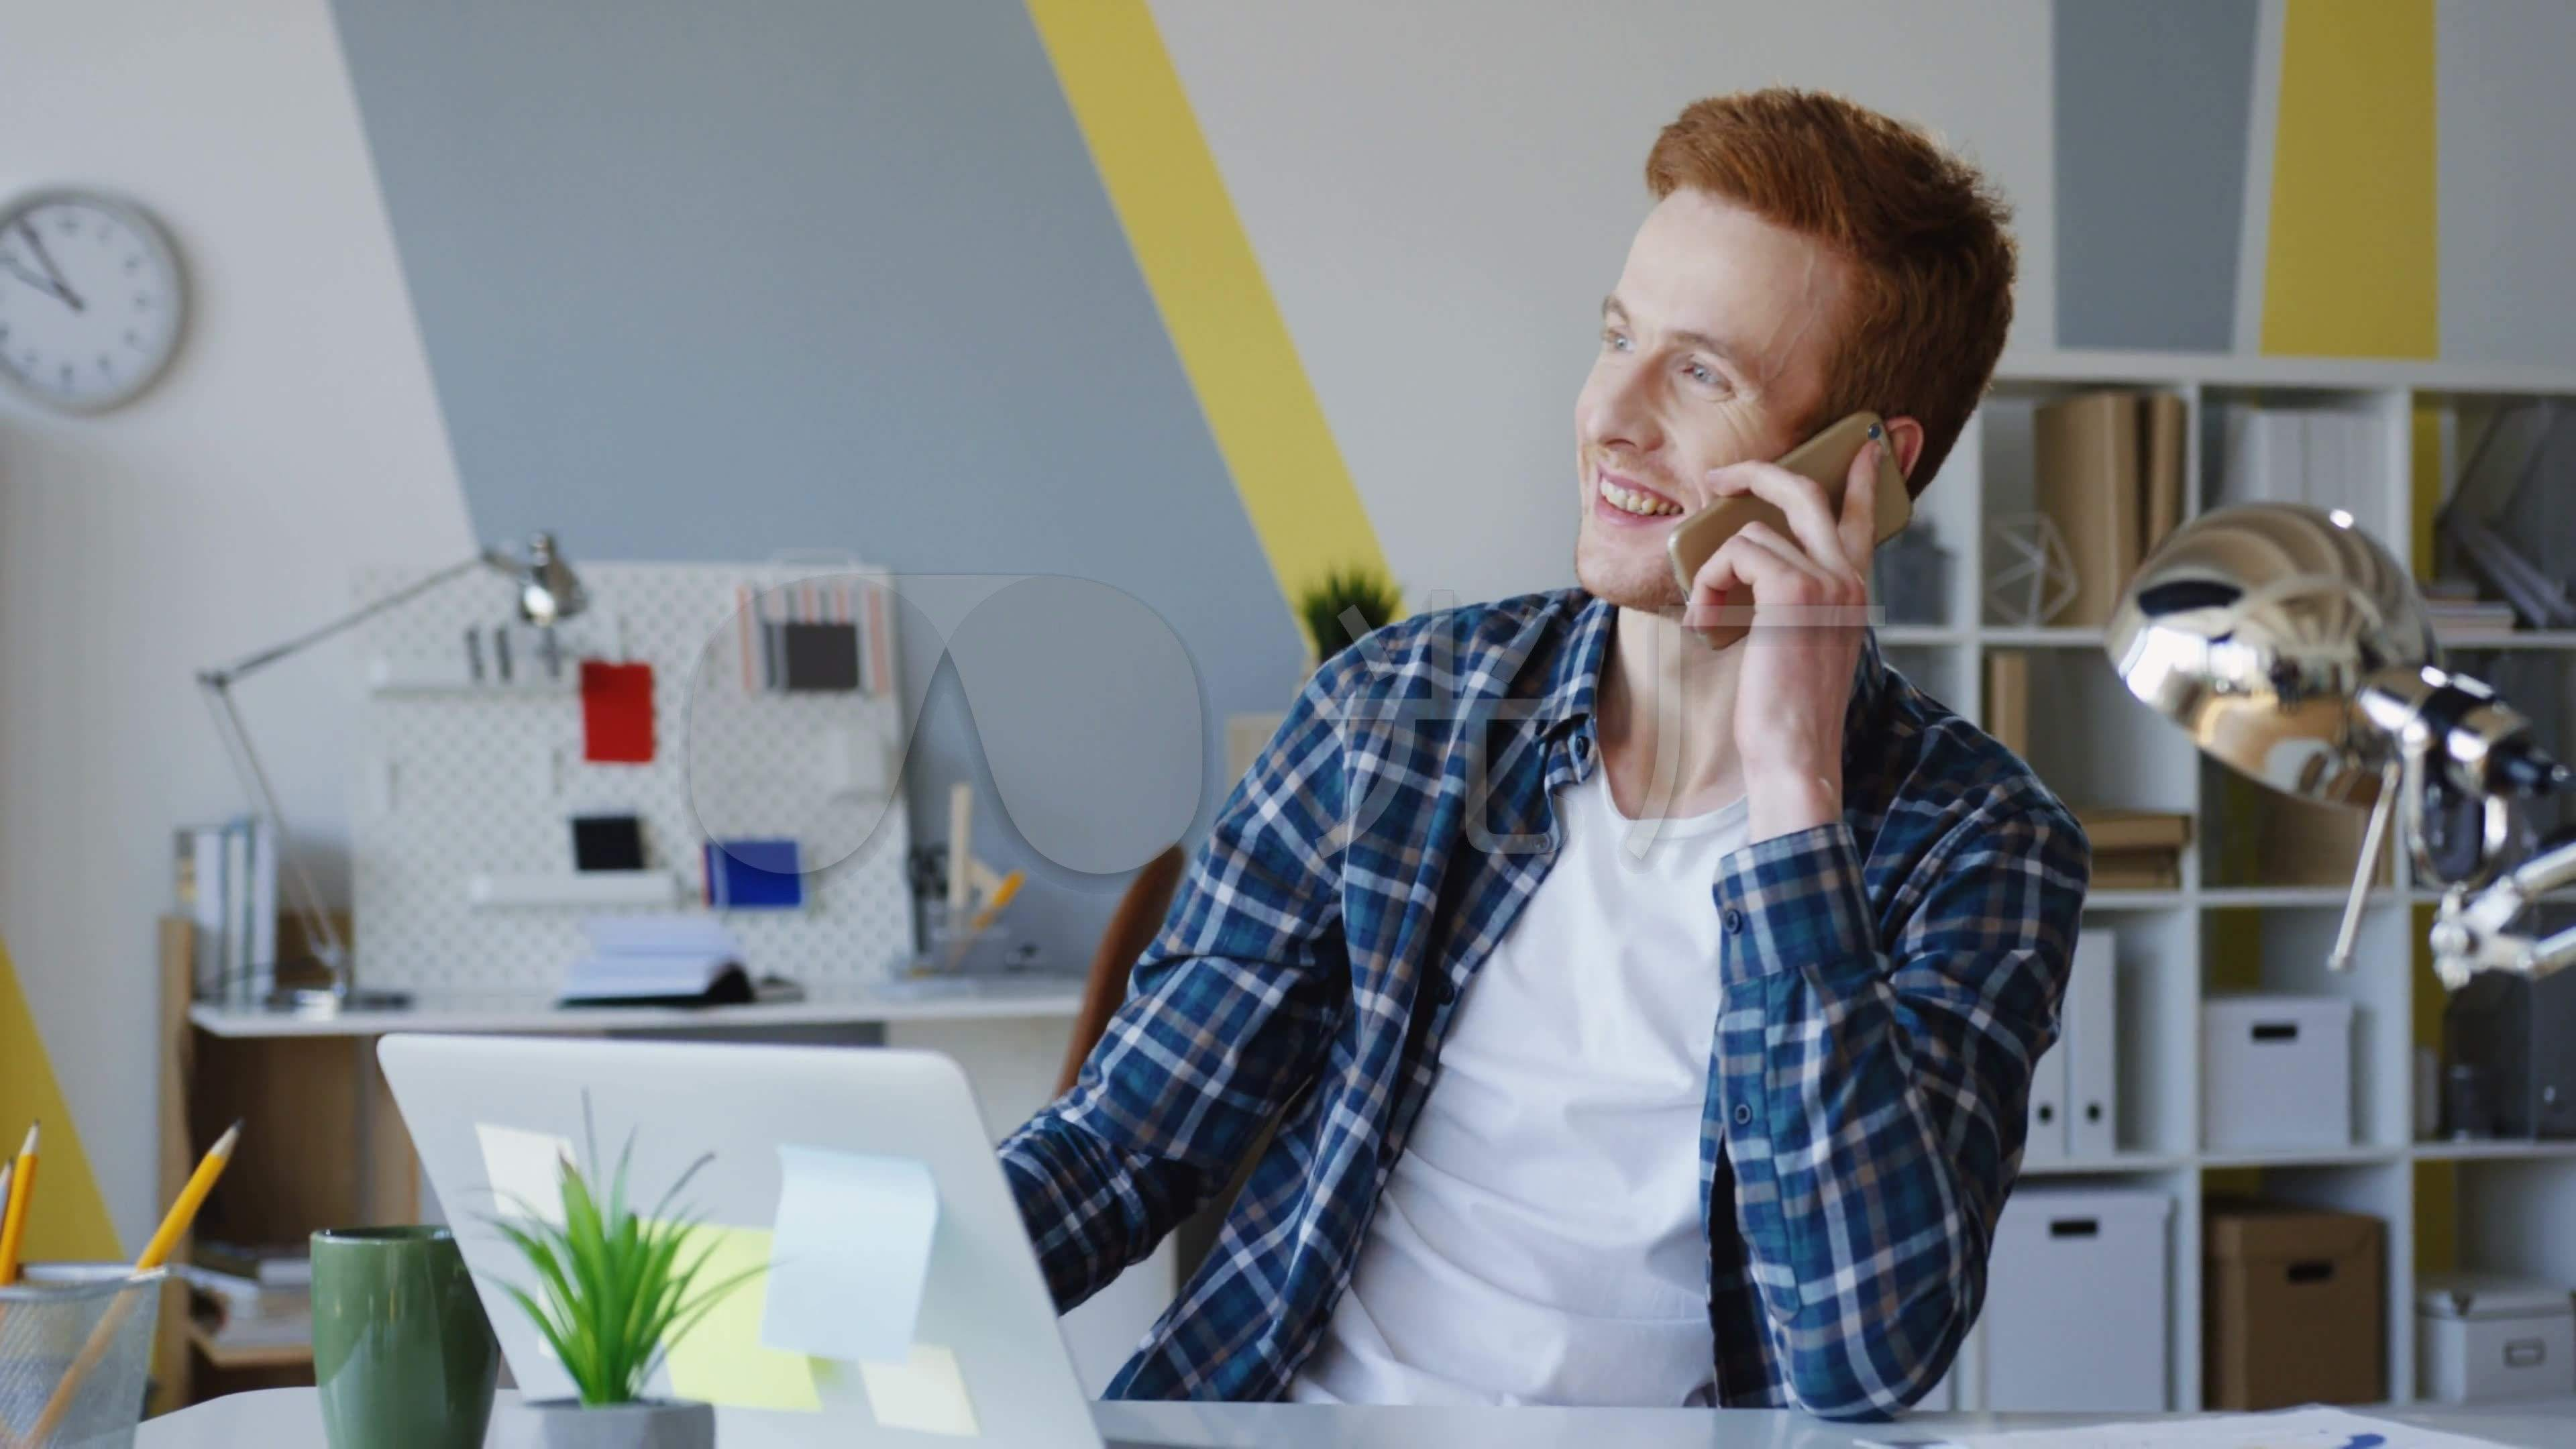calling: (1663, 405, 1921, 757)
